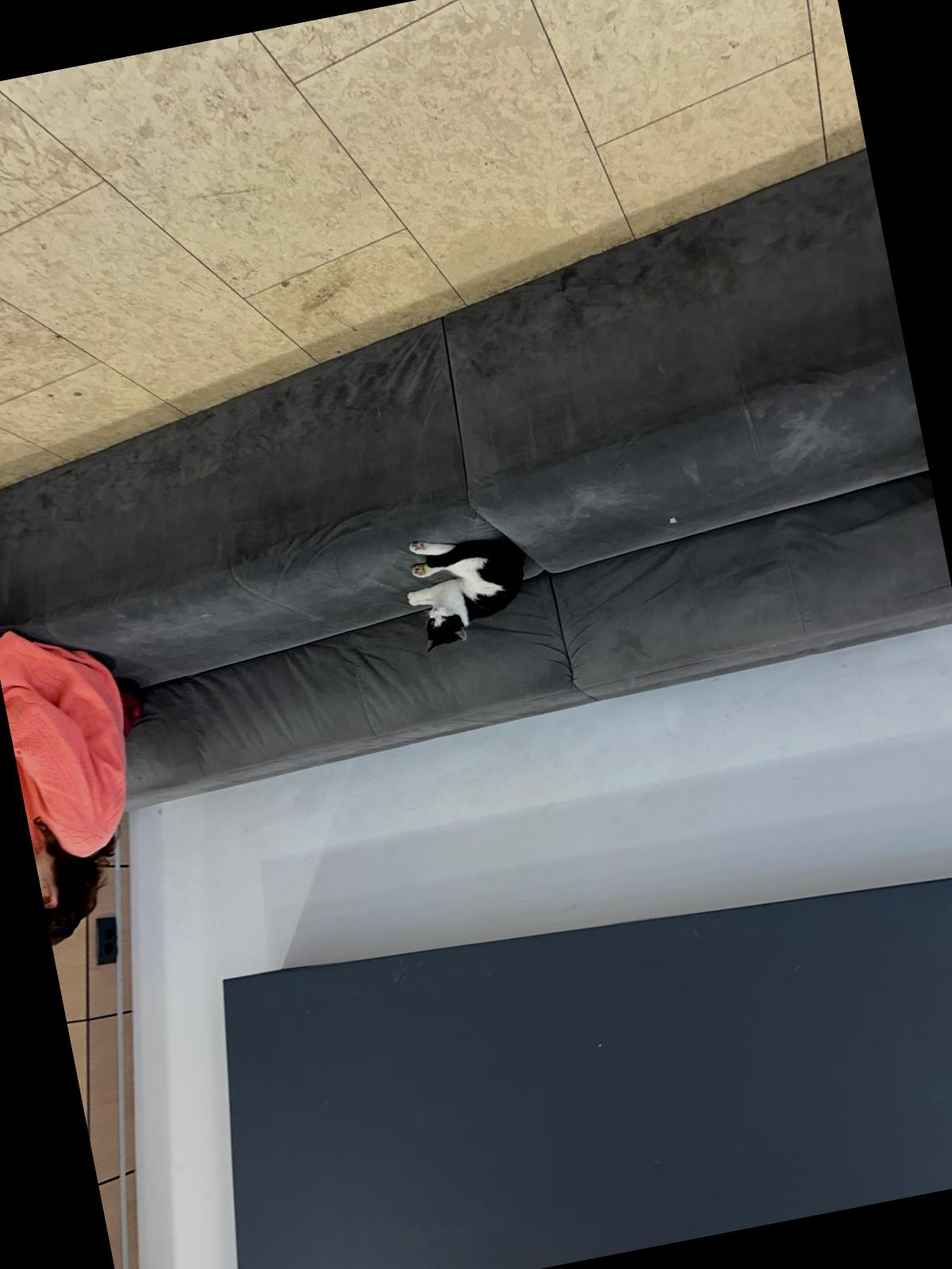macka: (397, 521, 538, 654)
